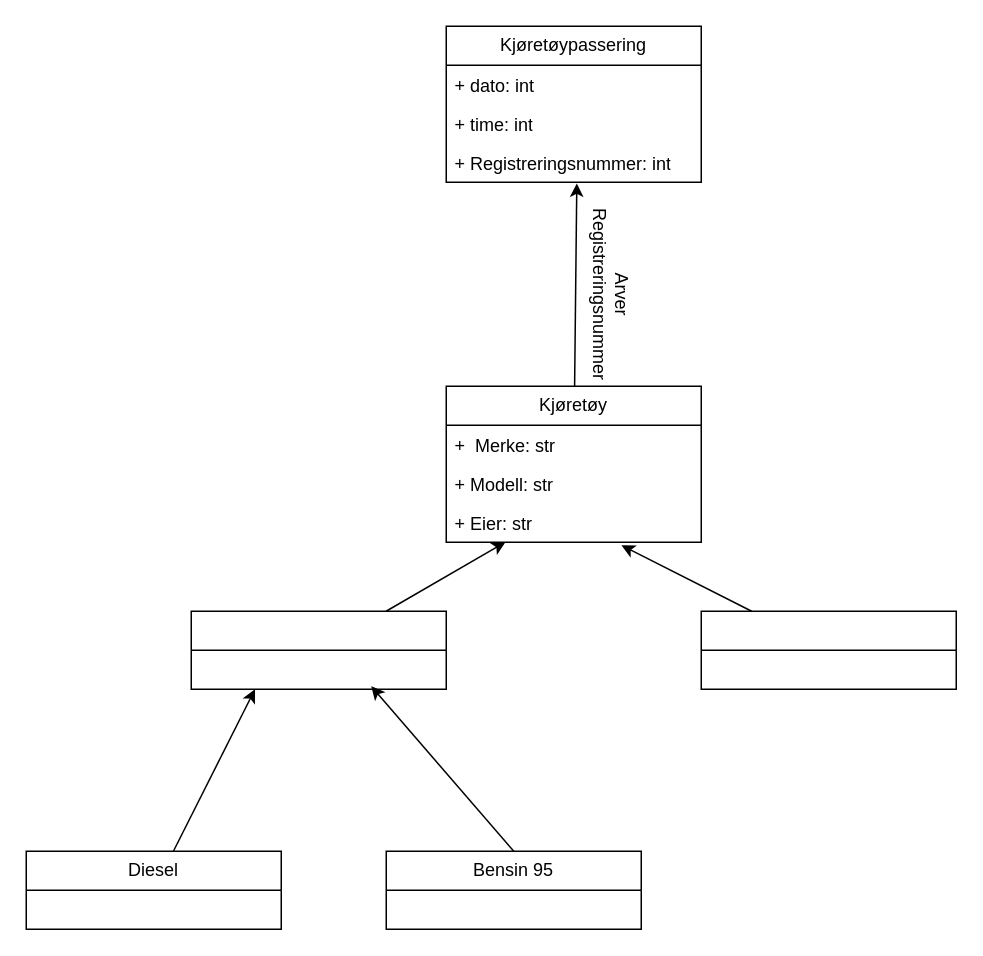
The diagram is 983 pixels wide and 956 high, and some of its shapes have lost their labels. The centre of each missing label's shape, as x and y in pixels:
Elektriske: (828,649)
Fossildrevne: (318,649)
